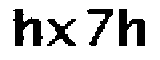7: (83, 6, 114, 49)
h: (9, 2, 45, 48), (117, 4, 148, 51)
x: (47, 17, 80, 48)
